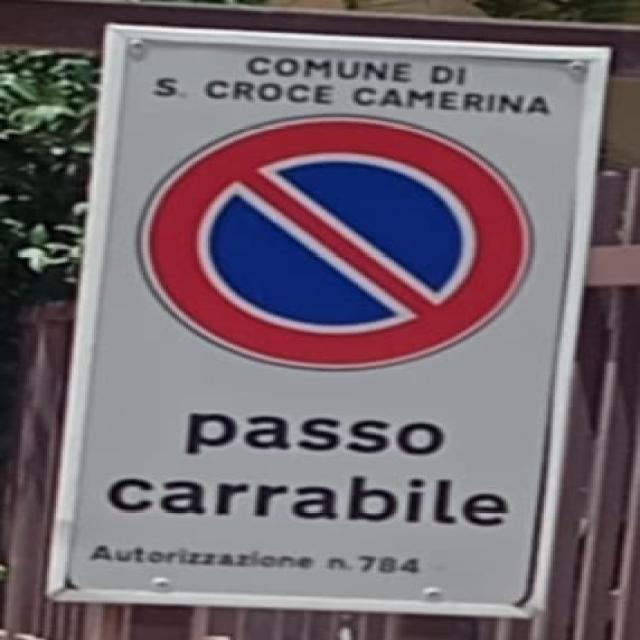forb_stopping: (132, 114, 541, 373)
